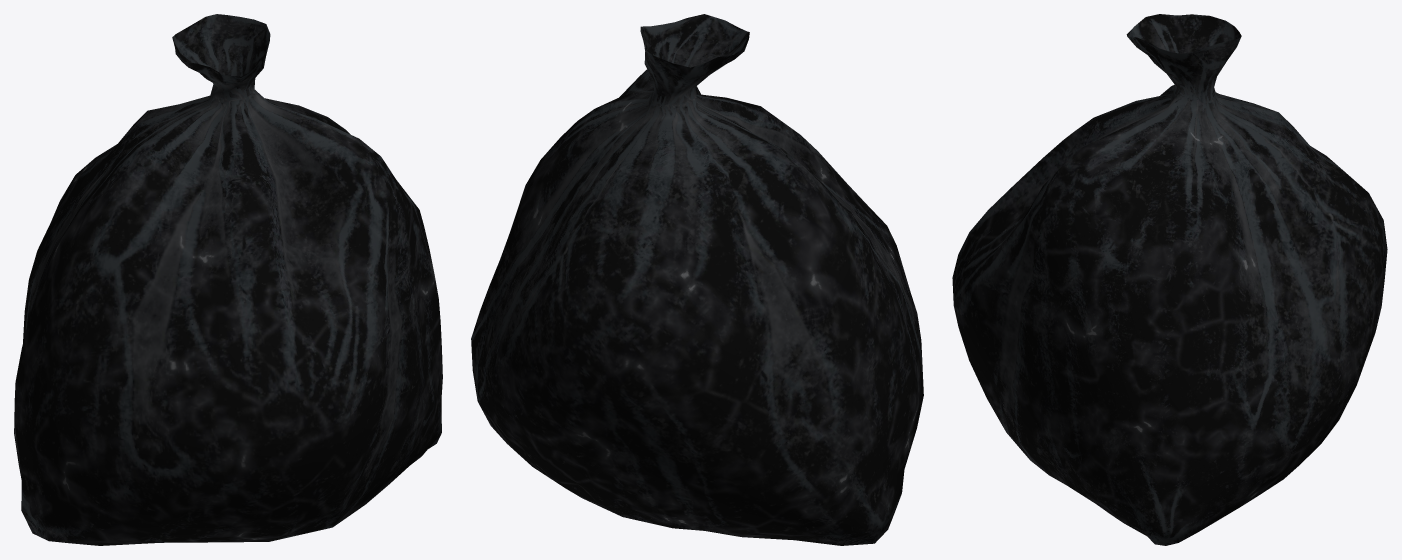
3 renders of one model, left to right at view 1: azimuth 30°, elevation 25°; view 2: azimuth 150°, elevation 25°; view 3: azimuth 270°, elevation 25°, orthographic. The views are drawn at different scales.
Visible parts, largest first — view 1: Package_low_0; view 2: Package_low_0; view 3: Package_low_0.
Part boxes in pixels (x1,y1,x2,y2): Package_low_0: [14, 14, 442, 545]; Package_low_0: [471, 14, 923, 545]; Package_low_0: [952, 14, 1387, 545].
Size of the model in its own units: 0.5149 by 0.5761 by 0.5094.
Materials: 1 (1 with a texture image).
